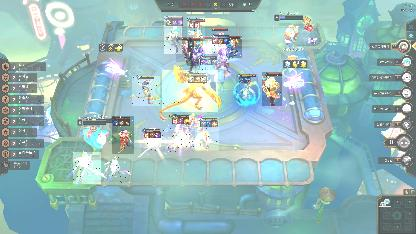1_leesin: (226, 36, 242, 58)
1_soraka: (104, 156, 130, 186)
2_graves: (164, 16, 182, 54)
2_jax: (236, 74, 258, 102)
2_joy: (195, 117, 219, 151)
2_nasus: (132, 76, 160, 106)
2_pantheon: (187, 38, 203, 66)
2_rakan: (176, 38, 192, 62)
2_seraphine: (200, 36, 218, 54)
2_soraka: (73, 152, 101, 184)
2_twitch: (141, 128, 165, 152)
2_volibear: (262, 72, 282, 106)
2_xayah: (112, 116, 134, 154)
2_yasuo: (212, 34, 230, 70)
2_zac: (198, 56, 224, 82)
2_zeri: (187, 16, 205, 46)
3_idas: (162, 70, 218, 112)
3_jayce: (168, 114, 194, 152)
